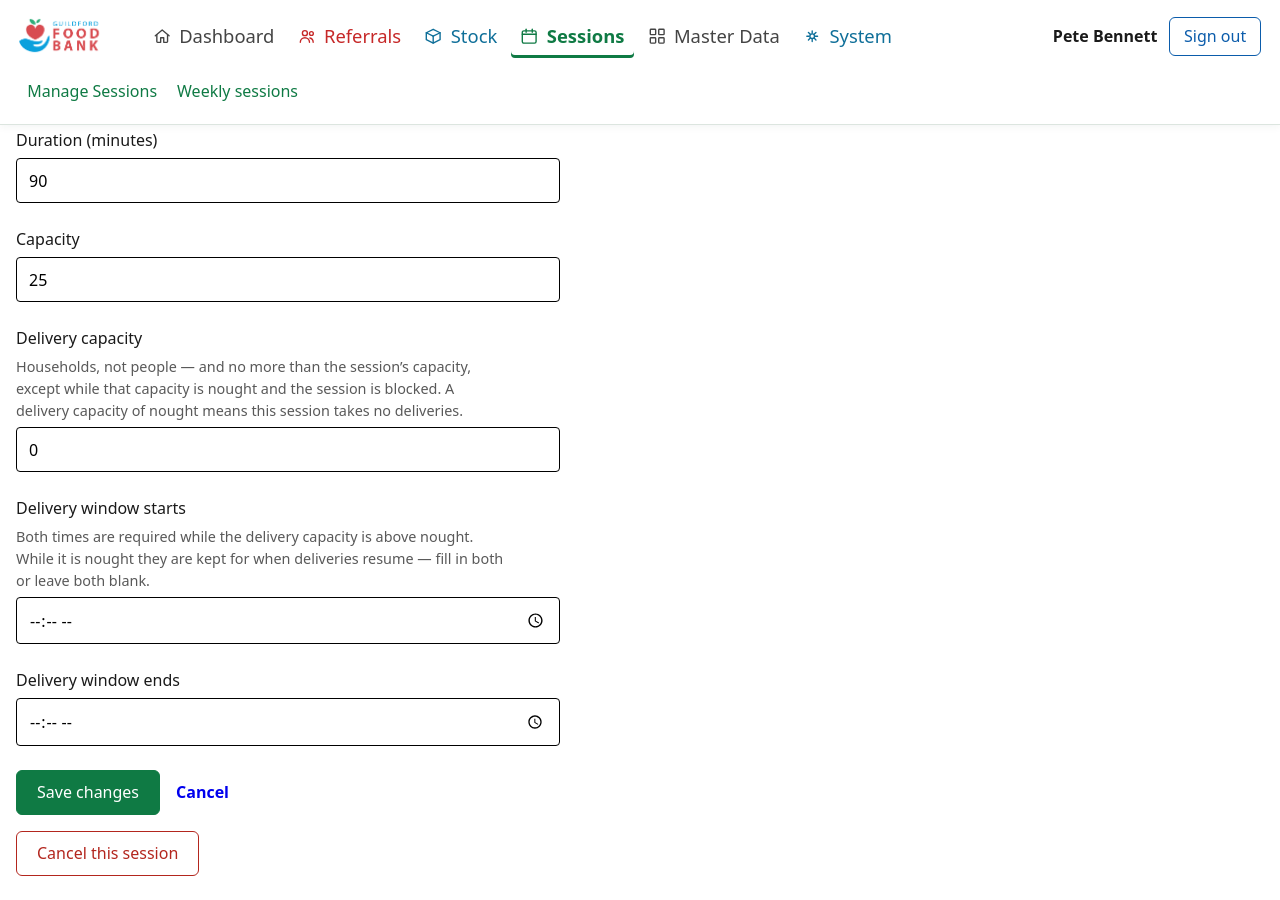
the session detail screen › hides an existing location but preserves it in the patch
(page scrolled)
Expected: the field showing "90" is shown, [16, 158, 560, 203]
Expected: the field showing "25" is shown, [16, 257, 560, 302]
What coordinates should you click on to do the following:
click the button "Save changes"
I would click on:
 (88, 792)
Its box is [16, 770, 160, 815].
(page scrolled)
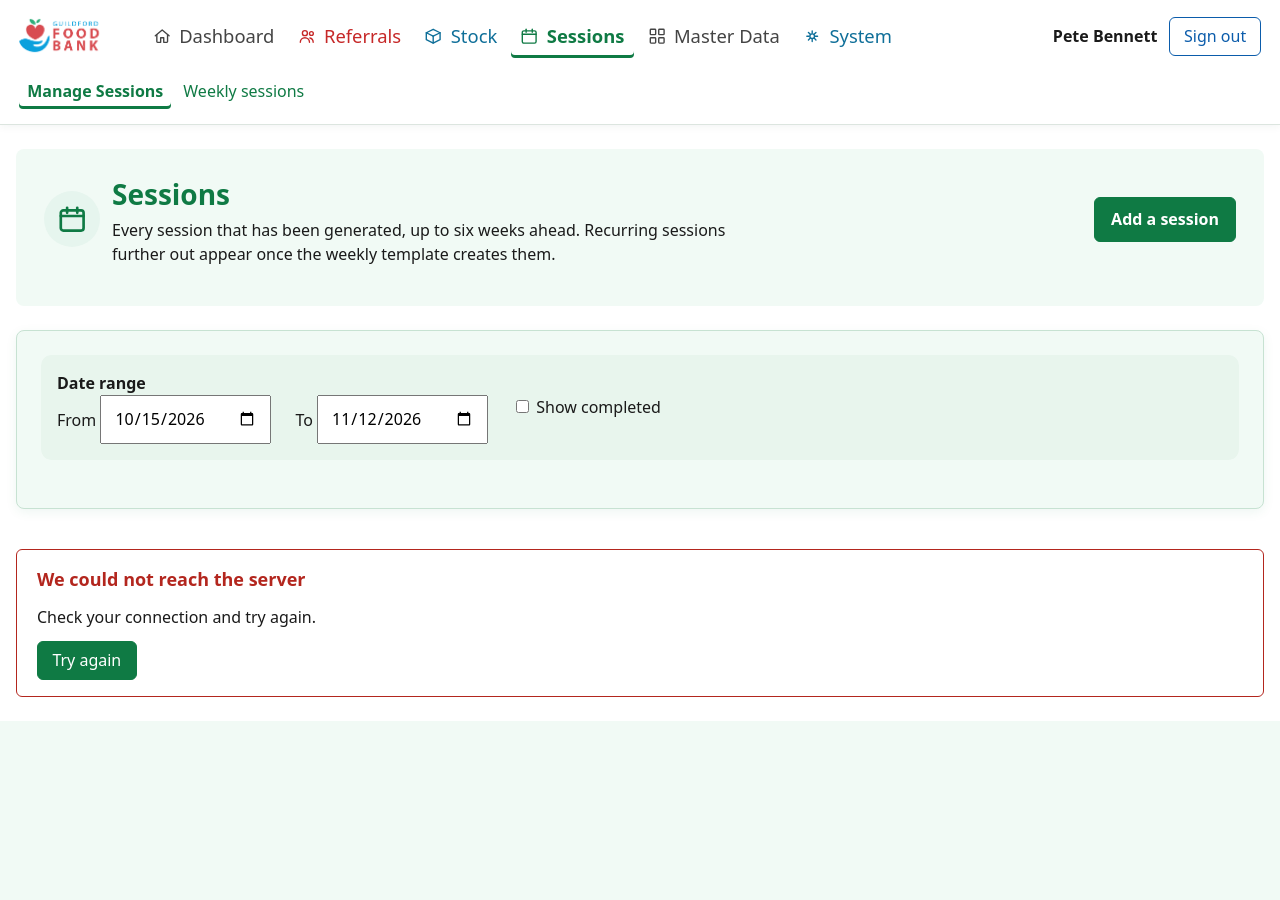
Expected: the heading "Sessions" is shown, [112, 175, 230, 213]
